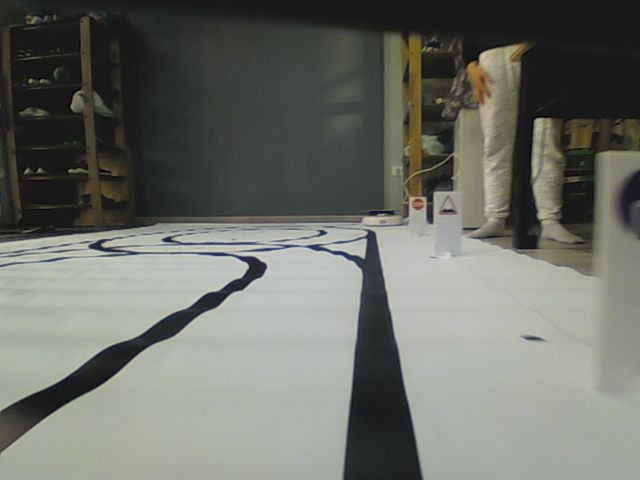Nerov: (438, 195, 458, 216)
